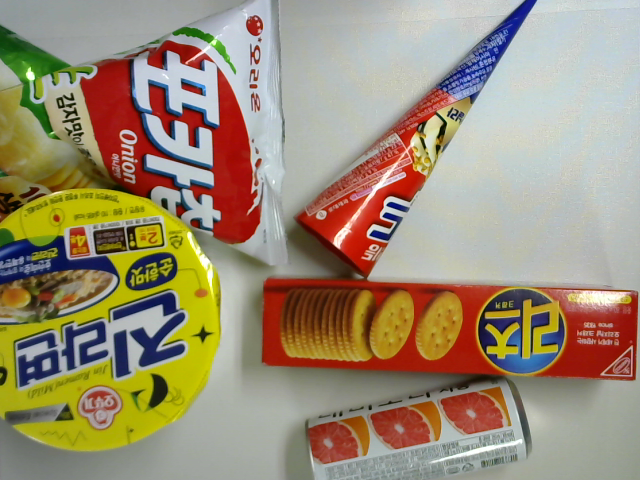Demisoda_Grapefruit_Can_250ml: (292, 372, 546, 480)
Jinlamyeon_Mild_Taste_Large_Cup: (1, 182, 227, 455)
Pocachip_Onion: (1, 1, 301, 279)
Ritz_Cracker: (254, 276, 640, 383)
World_Cone_Banila: (291, 1, 546, 285)
